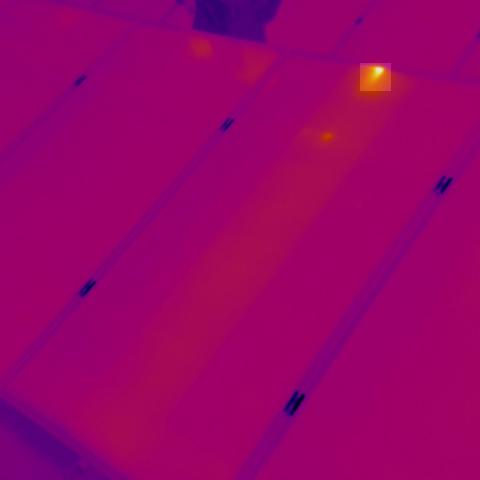fault: (360, 63, 391, 91)
